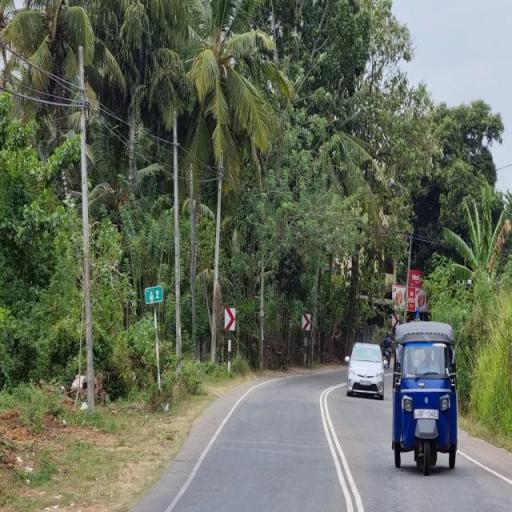double_white_line: (320, 382, 365, 512)
